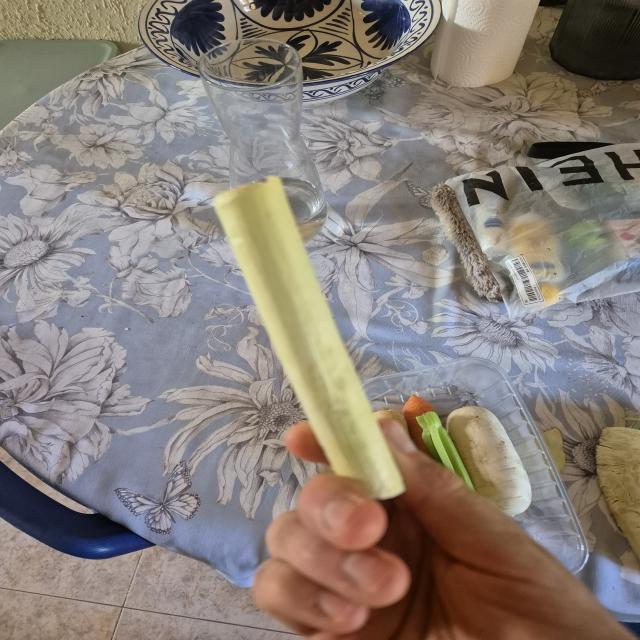puerro: (210, 177, 407, 498)
